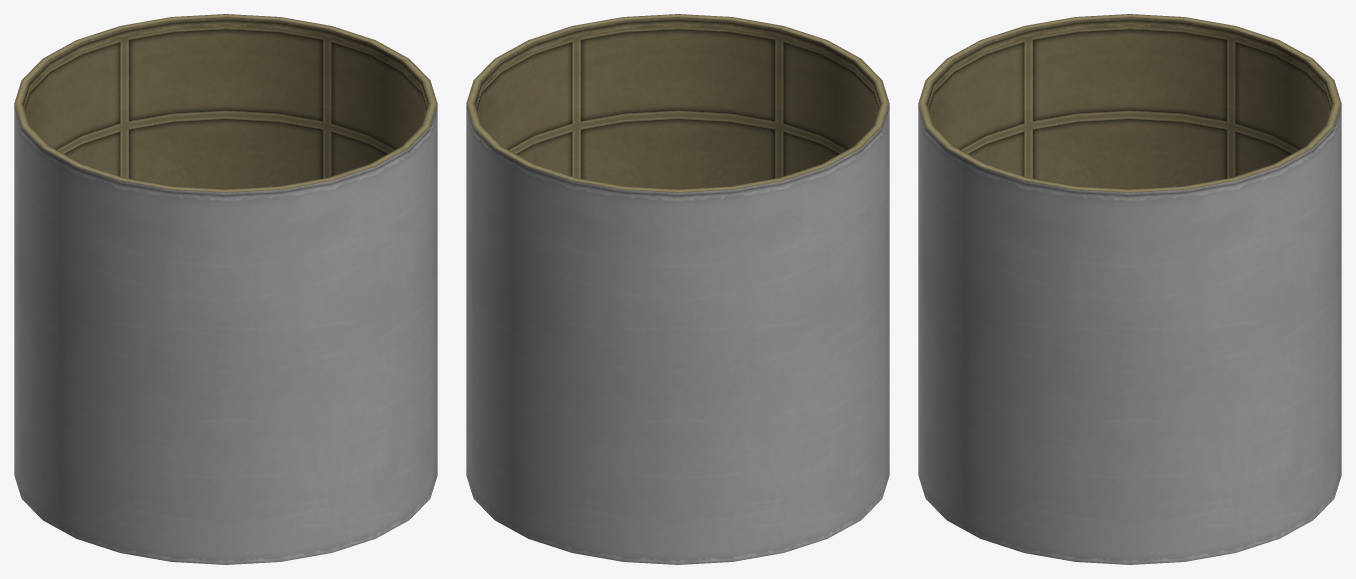
Rendered from black_anvil_engine_s1_1_fairing.obj.
3 views of the same model, side by side, from view 1: azimuth 30°, elevation 25°; view 2: azimuth 150°, elevation 25°; view 3: azimuth 270°, elevation 25° (orthographic).
Parts seen in each view (by area): view 1: fairing1; view 2: fairing1; view 3: fairing1.
Boxes of the visible parts, x1,y1,x2,y2 form: fairing1: (14, 14, 437, 564); fairing1: (466, 14, 889, 564); fairing1: (918, 14, 1341, 564).
Bounding box in the file's own units: 1.25 × 1.21 × 1.25.
Materials: 1 (1 with a texture image).
